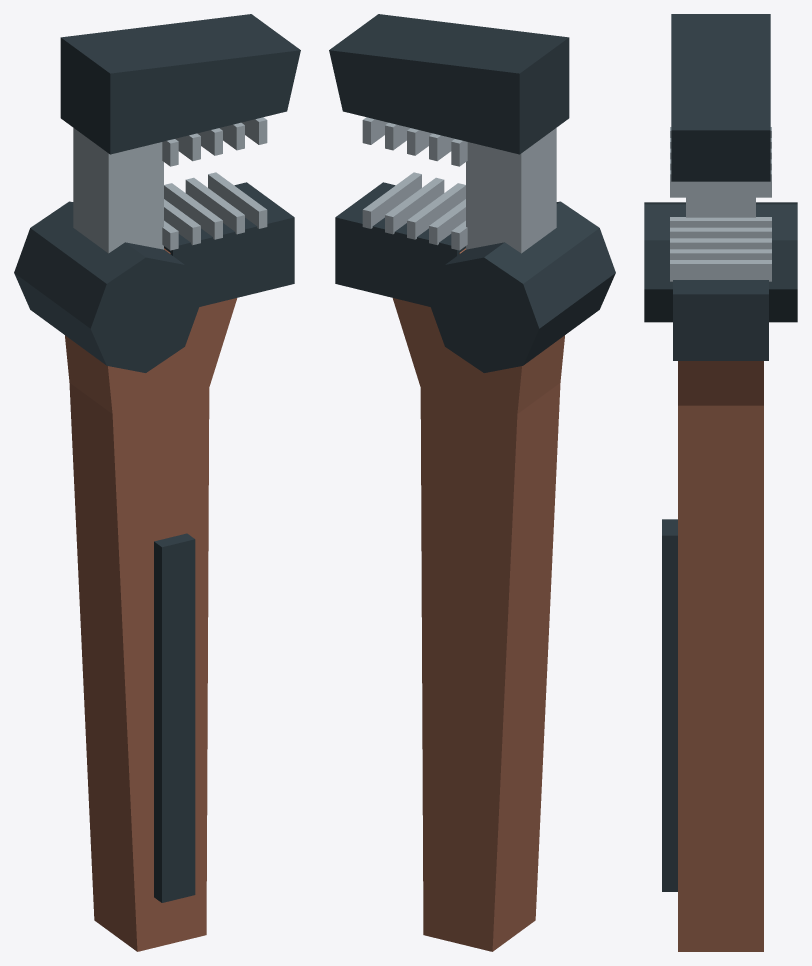
The model's file is b06_pipe_wrench.glb.
3 renders of one model, left to right at view 1: azimuth 30°, elevation 25°; view 2: azimuth 150°, elevation 25°; view 3: azimuth 270°, elevation 25°, orthographic.
Visible parts, largest first — view 1: b06_pipe_wrench; view 2: b06_pipe_wrench; view 3: b06_pipe_wrench.
Part boxes in pixels (bbox=[...]): b06_pipe_wrench: bbox=[14, 14, 300, 951]; b06_pipe_wrench: bbox=[329, 14, 615, 951]; b06_pipe_wrench: bbox=[644, 14, 797, 951].
Bounding box in the file's own units: 0.081 × 0.307 × 0.048.
